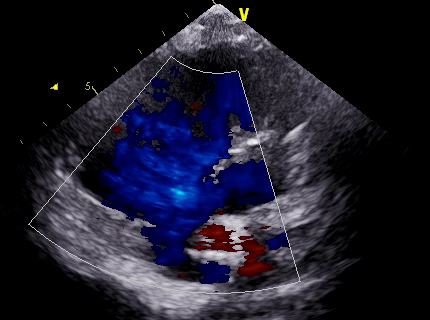TR: (137, 136, 223, 233)
